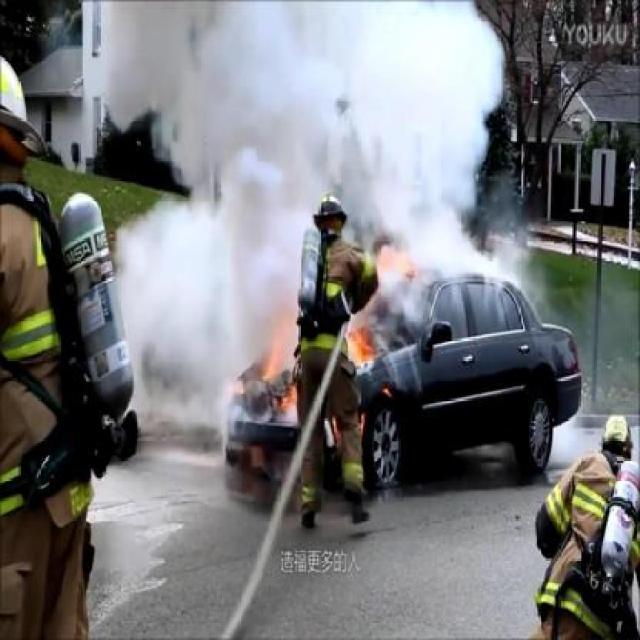Fire: (218, 206, 416, 498)
Smoke: (196, 15, 499, 212)
